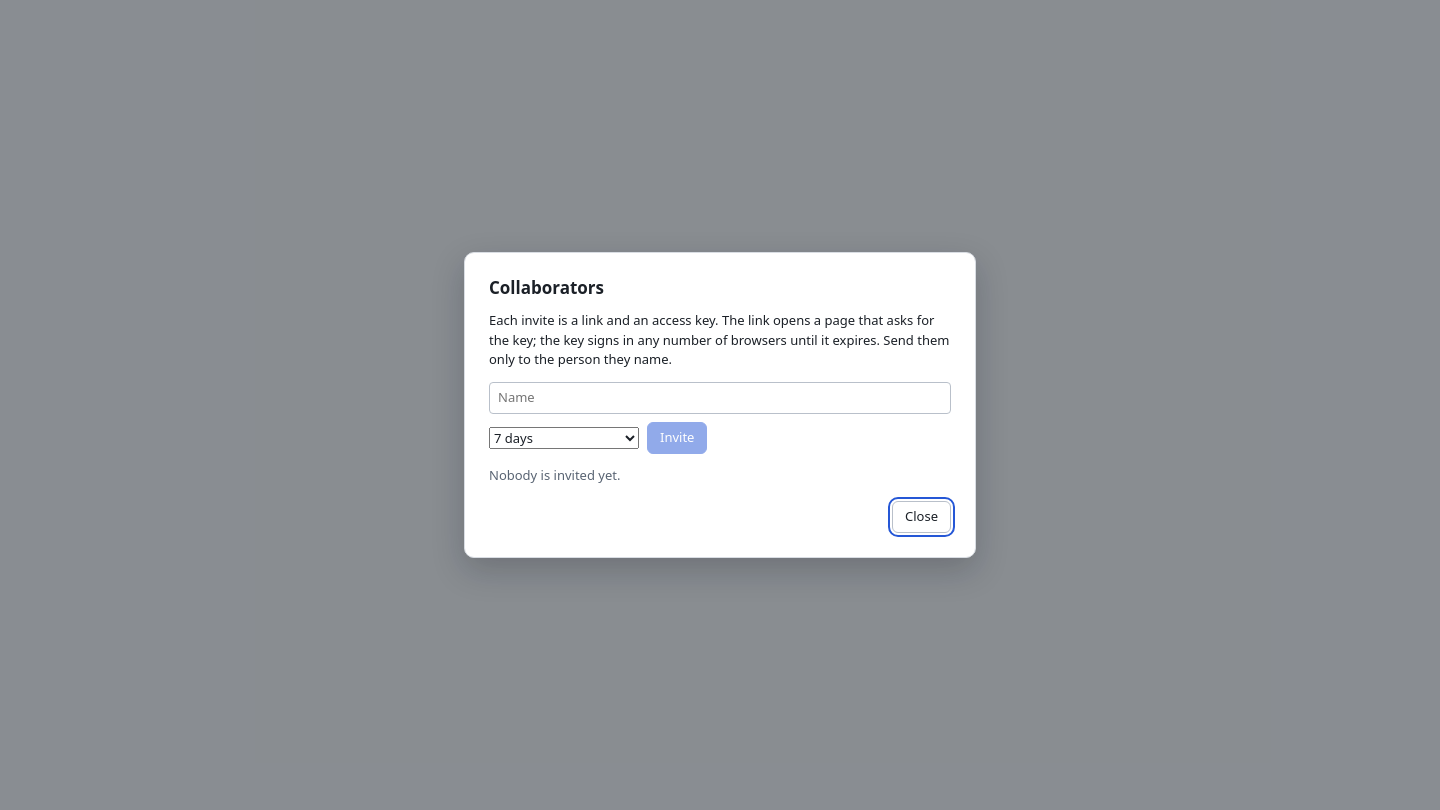
Scenario: CollaboratorsDialog › tells how to copy by hand when the browser refuses
The image size is (1440, 810).
Expected: the text "Nobody is invited yet." is shown, [489,466,620,484]
Type "Bo" into the field labelled "Name". click: (720, 398)
box: [489,382,951,414]
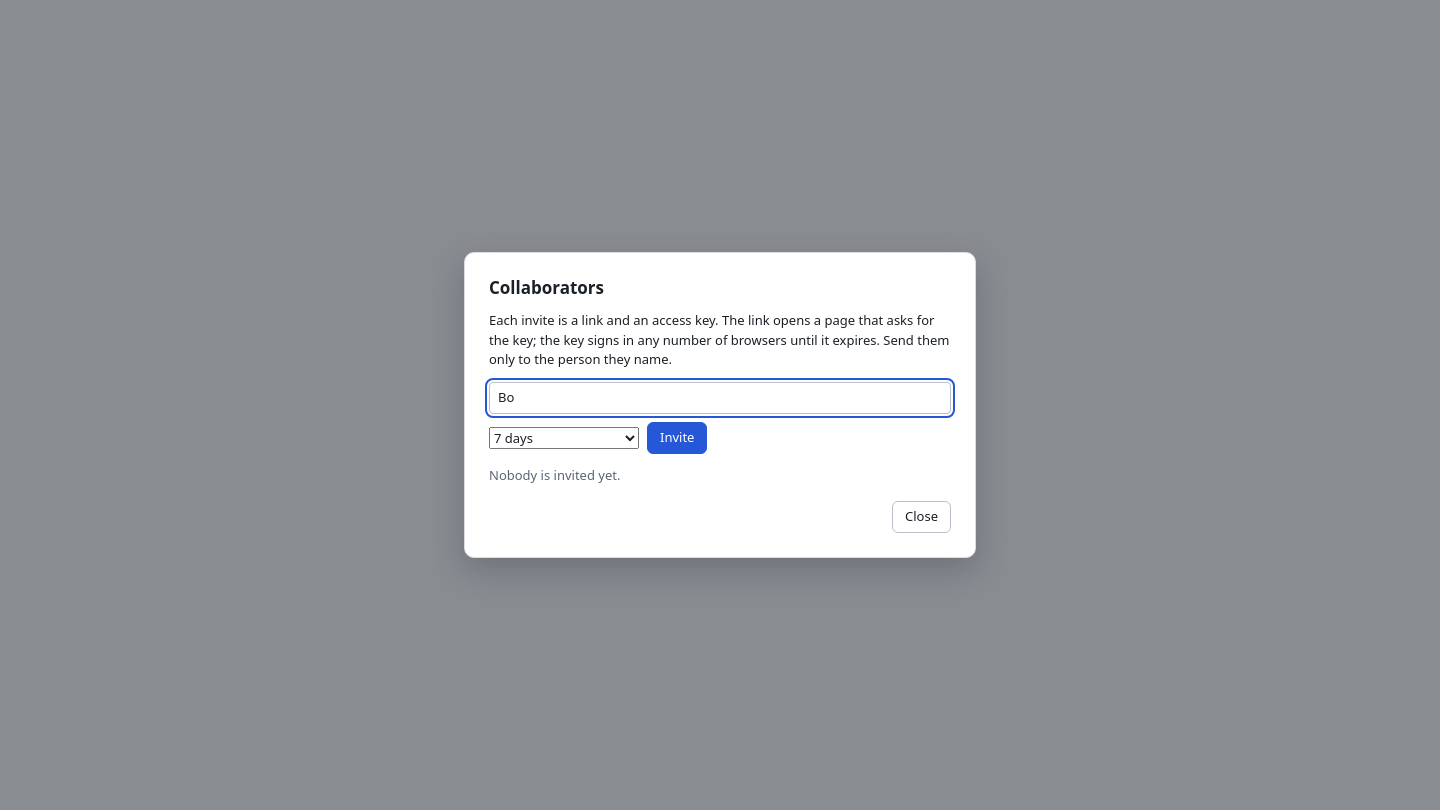
Click the button "Invite". click: (677, 438)
box: [647,422,707,454]
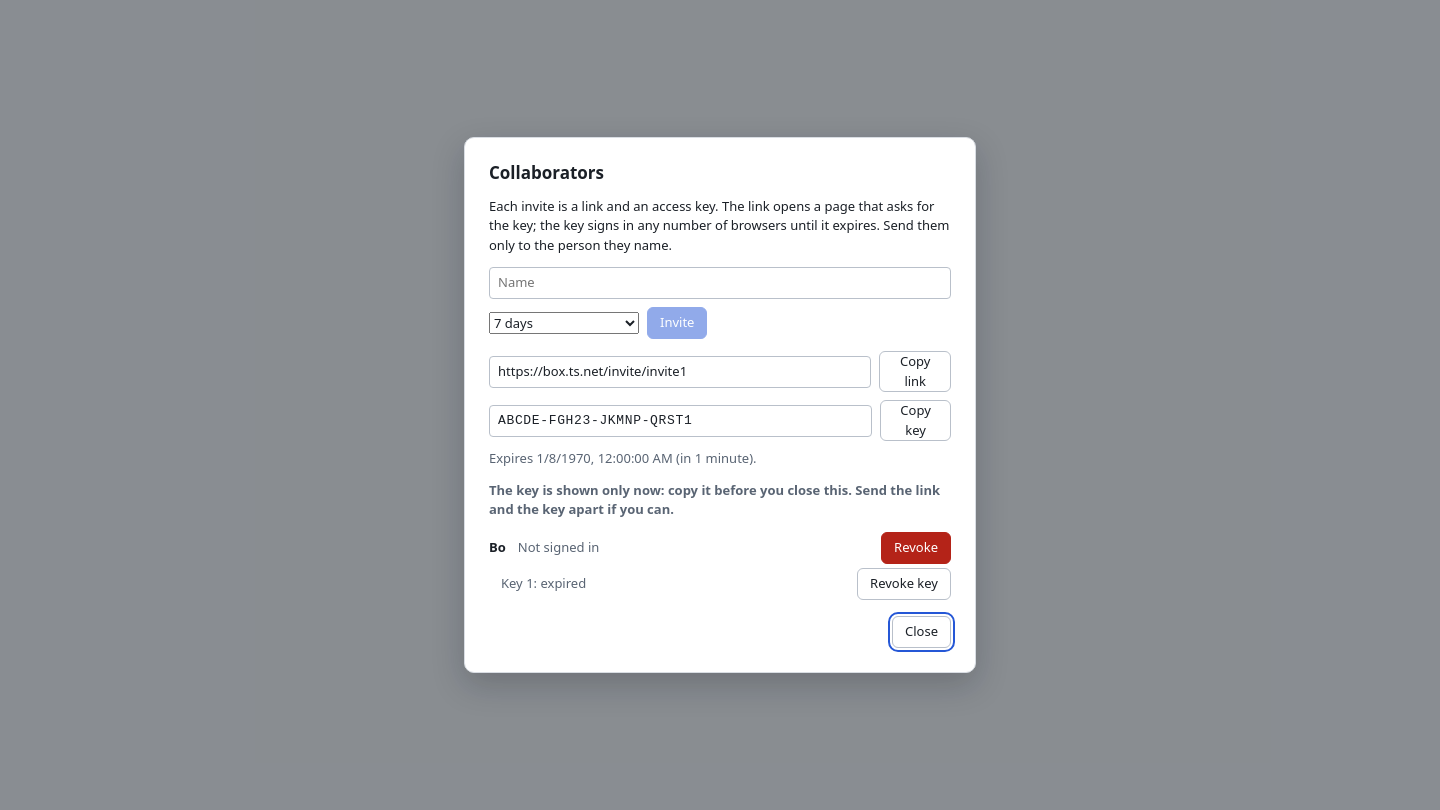
Click the button "Copy key". click: (916, 420)
box: [880,400,951,441]
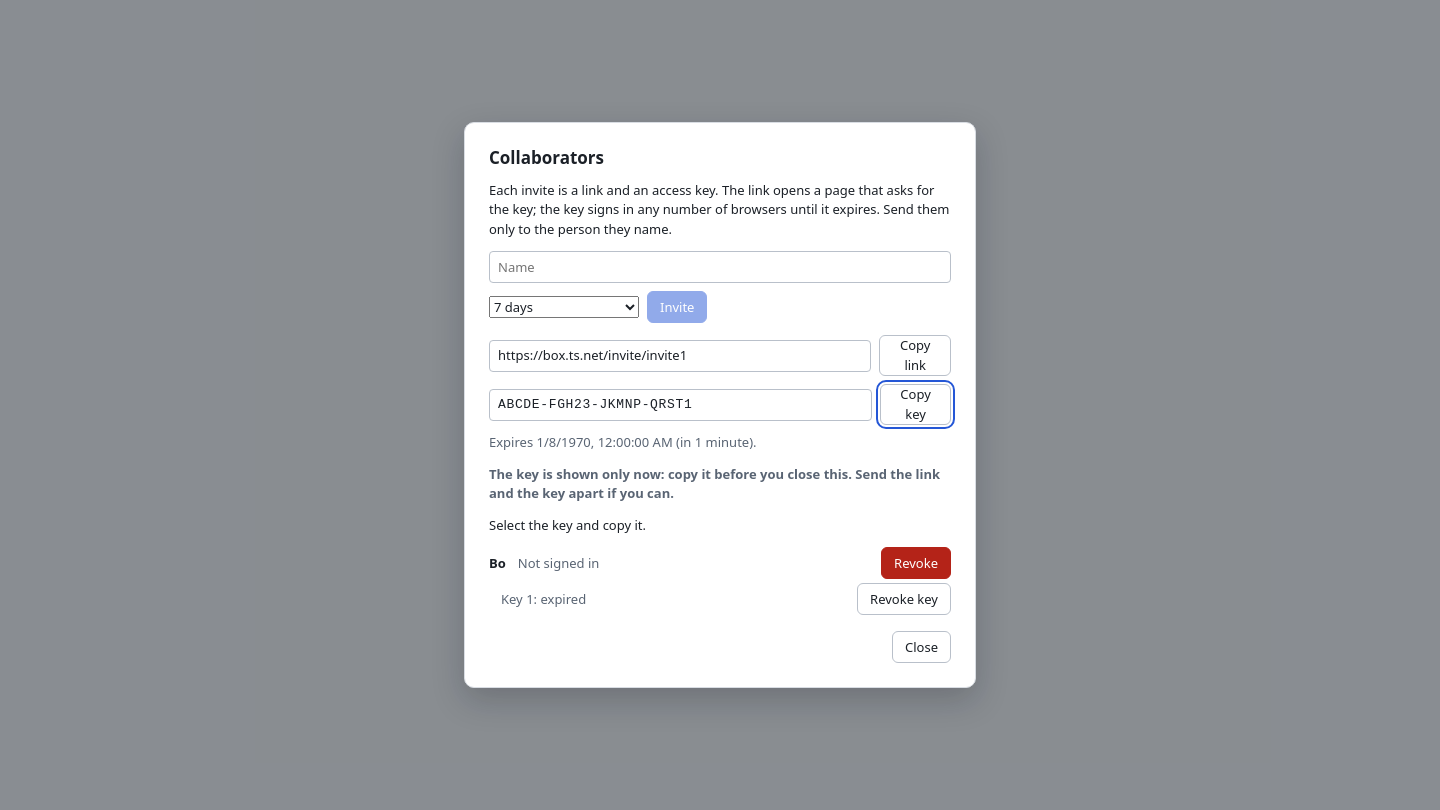
Now the text "Select the key and copy it." is shown, box [489,516,646,534]
